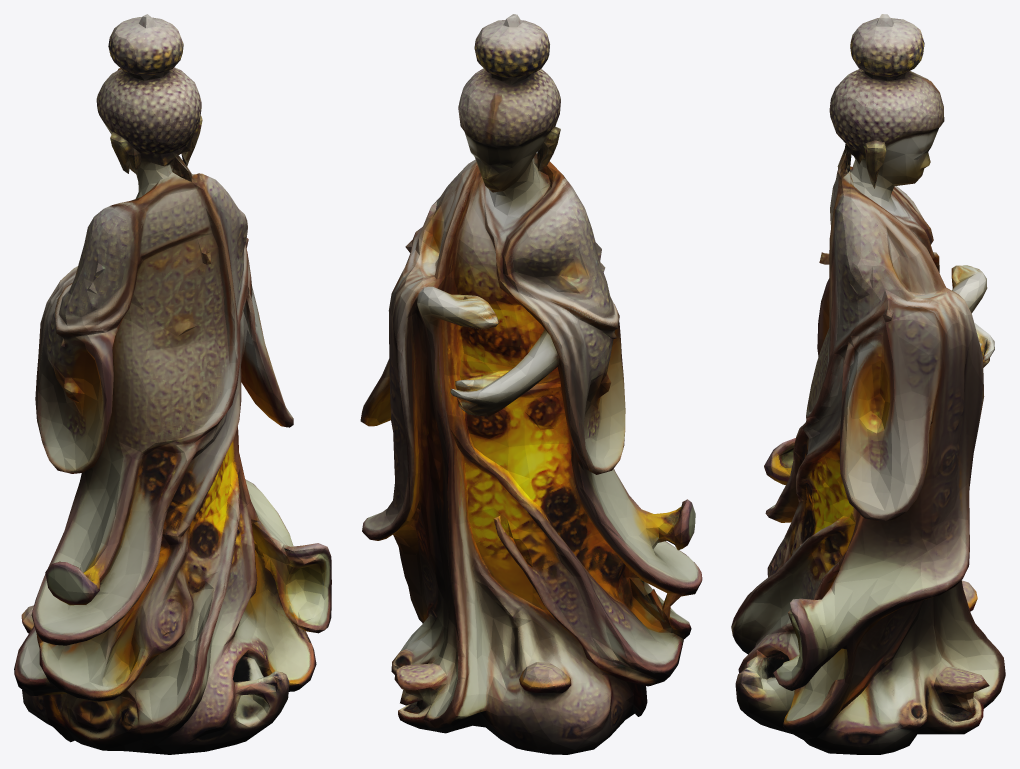
File: ceramic-statue-3d.jpeg.glb
3 renders of one model, left to right at view 1: azimuth 30°, elevation 25°; view 2: azimuth 150°, elevation 25°; view 3: azimuth 270°, elevation 25°, orthographic.
Parts seen in each view (by area): view 1: world; view 2: world; view 3: world.
Boxes of the visible parts, x1,y1,x2,y2 form: world: [14, 14, 331, 754]; world: [360, 14, 702, 754]; world: [731, 14, 1005, 754].
Bounding box in the file's own units: 0.4452 × 1 × 0.3624.
Materials: 1 (1 with a texture image).
